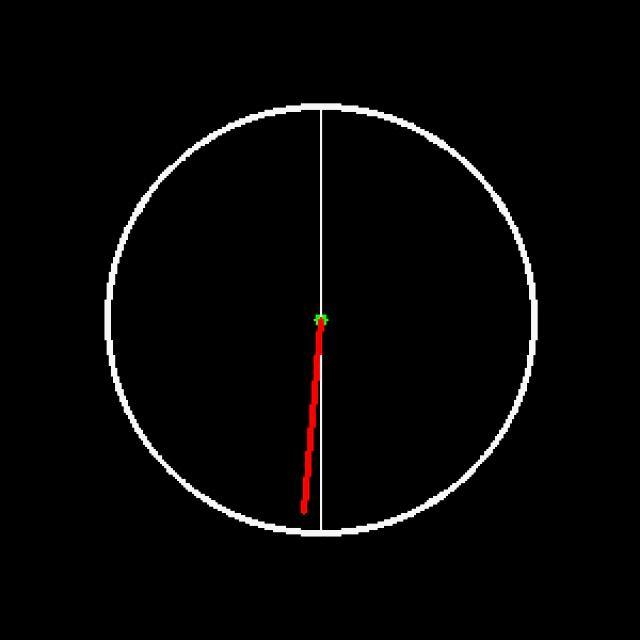Needle_Tip: (276, 459, 339, 524)
Needle_base: (289, 290, 351, 348)
